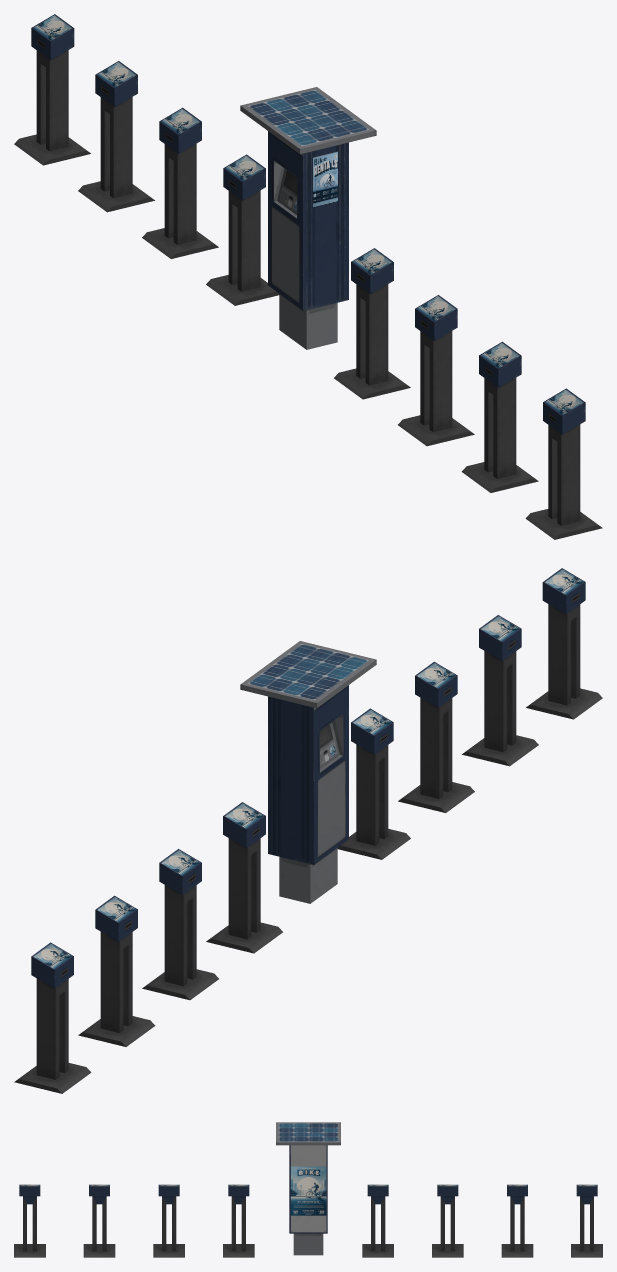
The model's file is MB_Bicycle_Parking.fbx.
3 renders of one model, top to bottom at view 1: azimuth 30°, elevation 25°; view 2: azimuth 150°, elevation 25°; view 3: azimuth 270°, elevation 25°, orthographic. The views are drawn at different scales.
Visible parts, largest first — view 1: MB_Bicycle_Parking_LOD0; view 2: MB_Bicycle_Parking_LOD0; view 3: MB_Bicycle_Parking_LOD0.
Part boxes in pixels (x1,y1,x2,y2): MB_Bicycle_Parking_LOD0: (14, 14, 602, 539); MB_Bicycle_Parking_LOD0: (14, 568, 602, 1093); MB_Bicycle_Parking_LOD0: (14, 1122, 602, 1257).
Size of what is drawn, in the model's own units: 69.1 by 188 by 846.
